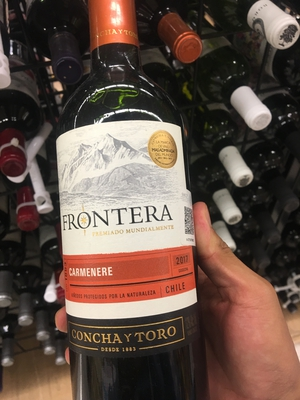frontera carmenere: (45, 6, 224, 400)
